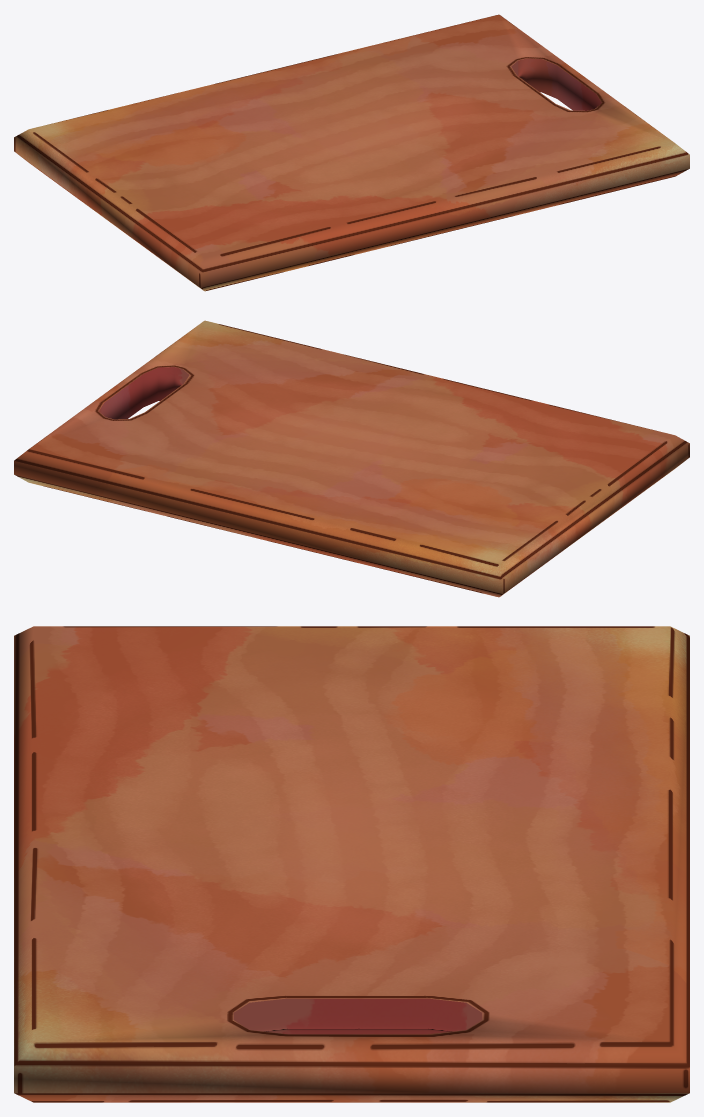
File: meat board.fbx
The picture shows the model from 3 angles, top to bottom: view 1: azimuth 30°, elevation 25°; view 2: azimuth 150°, elevation 25°; view 3: azimuth 270°, elevation 25°; orthographic projection. The views are drawn at different scales.
Parts seen in each view (by area): view 1: meat_board; view 2: meat_board; view 3: meat_board.
Boxes of the visible parts, x1=… form: meat_board: x1=14, y1=14, x2=689, y2=291; meat_board: x1=14, y1=320, x2=689, y2=597; meat_board: x1=14, y1=626, x2=689, y2=1102.
Bounding box in the file's own units: 80.78 × 5.28 × 53.4.
